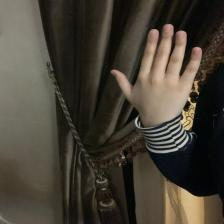five: (100, 18, 210, 133)
